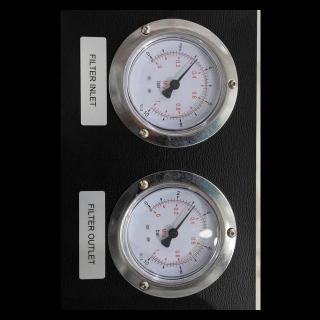gauge: (106, 168, 240, 308), (107, 20, 241, 148), (141, 103, 155, 117), (144, 52, 158, 66), (141, 254, 155, 266), (146, 203, 158, 217), (169, 79, 179, 89), (168, 228, 178, 238), (191, 203, 197, 209), (192, 57, 198, 63)
